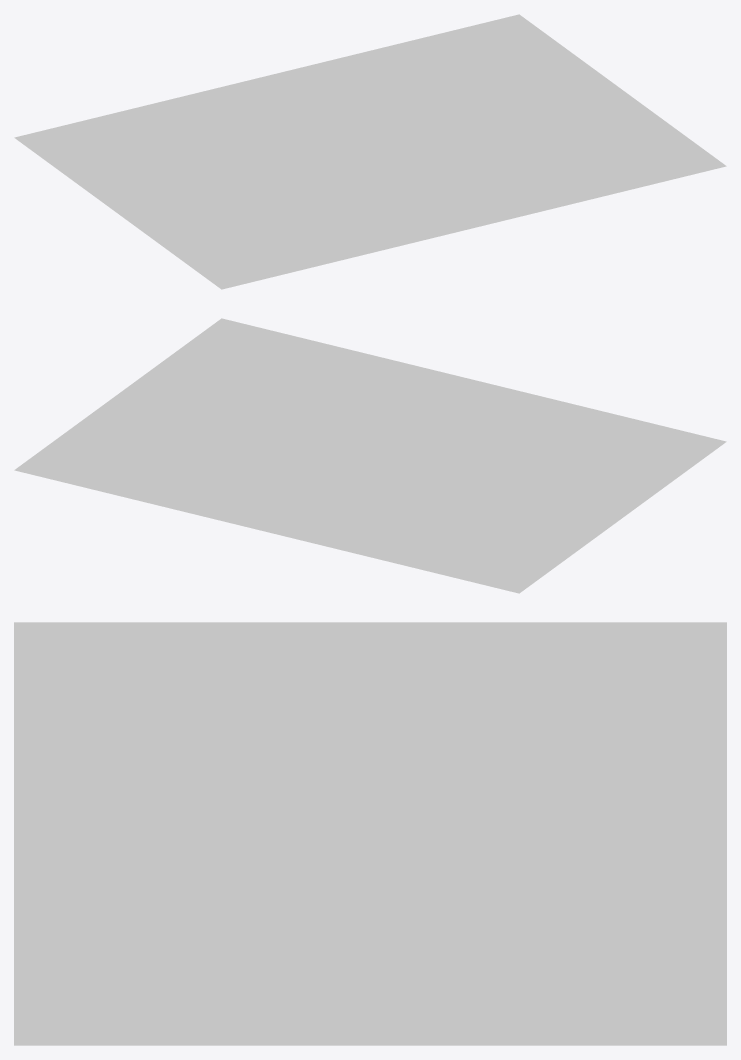
The model's file is kd_stage_135ded_4_151_bounded.glb.
3 renders of one model, top to bottom at view 1: azimuth 30°, elevation 25°; view 2: azimuth 150°, elevation 25°; view 3: azimuth 270°, elevation 25°, orthographic. The views are drawn at different scales.
Visible parts, largest first — view 1: kd_stage_135ded_4_151_bounded; view 2: kd_stage_135ded_4_151_bounded; view 3: kd_stage_135ded_4_151_bounded.
Part boxes in pixels (x1=…): kd_stage_135ded_4_151_bounded: x1=14, y1=14, x2=726, y2=289; kd_stage_135ded_4_151_bounded: x1=14, y1=318, x2=726, y2=593; kd_stage_135ded_4_151_bounded: x1=14, y1=622, x2=726, y2=1045.
Size of the model in its own units: 0.7411 by 0 by 0.5275.
Materials: 1 (1 with a texture image).
